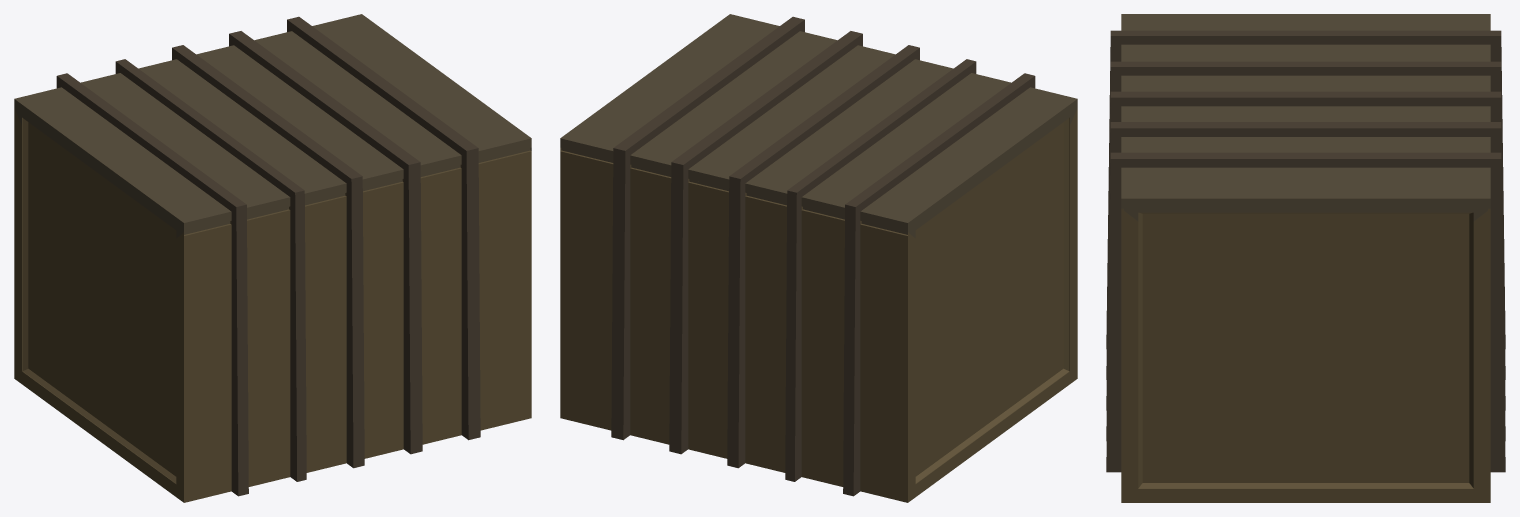
The picture shows the model from 3 angles, left to right: view 1: azimuth 30°, elevation 25°; view 2: azimuth 150°, elevation 25°; view 3: azimuth 270°, elevation 25°; orthographic projection. The views are drawn at different scales.
Visible parts, largest first — view 1: ลูกบาศก์.165; view 2: ลูกบาศก์.165; view 3: ลูกบาศก์.165.
Boxes of the visible parts, x1=… form: ลูกบาศก์.165: x1=14, y1=14, x2=531, y2=502; ลูกบาศก์.165: x1=560, y1=14, x2=1077, y2=502; ลูกบาศก์.165: x1=1106, y1=14, x2=1505, y2=502.
Bounding box in the file's own units: 650 × 514 × 594.
